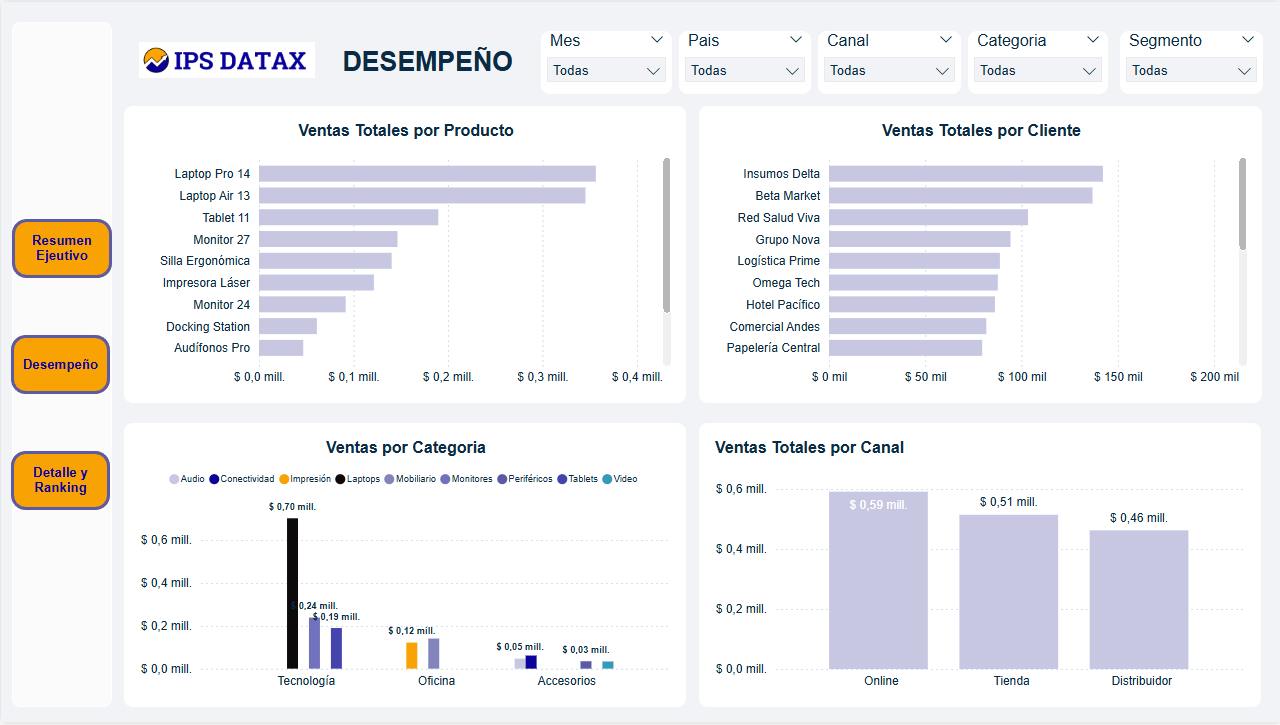

The page's visual inventory and layout, read from the dashboard file:
{"tool":"powerbi","page":{"name":"Desempeño","canvas":[1280,720],"ordinal":1},"visuals":[{"type":"shape","box":[11.1,19.9,99.5,685.3],"z":0},{"type":"image","box":[122.6,24.3,206.2,68.1],"z":1000},{"type":"slicer","fields":{"Values":["Calendario.Jerarquía de fechas.Mes"]},"box":[539.8,29.2,131.3,63.2],"z":2000},{"type":"slicer","fields":{"Values":["TblDimClienteDirty.Pais"]},"box":[677.9,29.2,132.3,63.2],"z":3000},{"type":"slicer","fields":{"Values":["TblDimCanalDirty.Canal"]},"box":[817,29.2,143,63.2],"z":4000},{"type":"slicer","fields":{"Values":["TblDimProductoDirty.Categoria"]},"box":[966.8,29.2,140.1,63.2],"z":5000},{"type":"slicer","fields":{"Values":["TblDimClienteDirty.Segmento"]},"box":[1118.5,29.2,143,63.2],"z":6000},{"type":"textbox","box":[328.8,44.7,195.5,33.1],"z":8000},{"type":"actionButton","box":[11.4,216.6,99.2,59.3],"z":9000},{"type":"actionButton","box":[10.3,332.8,99.2,59.3],"z":10000},{"type":"actionButton","box":[10.3,449.1,99.2,59.3],"z":11000},{"type":"clusteredColumnChart","title":"Ventas por Categoria","fields":{"Category":["TblDimProductoDirty.Categoria"],"Y":["TblFactVentasDirty.Ventas Totales Netas"],"Series":["TblDimProductoDirty.Subcategoria"]},"box":[122.8,420.7,562.4,284.3],"z":13000},{"type":"barChart","fields":{"Category":["Cliente.Cliente"],"Y":["Medidas.Ventas Totales"]},"box":[698.3,103.6,562.3,297.9],"z":14001},{"type":"barChart","fields":{"Category":["Producto.Producto"],"Y":["Medidas.Ventas Totales"]},"box":[123,103.6,562.3,297.9],"z":14002},{"type":"columnChart","fields":{"Y":["Medidas.Ventas Totales"],"Category":["Canal.Canal"]},"box":[698,421,562,284],"z":14003}]}

Visuals, with their boxes in screenshot pixels (x1, y1, x2, y2), scaled from the page's 1280x720 canvas onto the 1280x725 screenshot:
shape: (x1=11, y1=20, x2=111, y2=710)
image: (x1=123, y1=24, x2=329, y2=93)
slicer - Calendario.Jerarquía de fechas.Mes: (x1=540, y1=29, x2=671, y2=93)
slicer - TblDimClienteDirty.Pais: (x1=678, y1=29, x2=810, y2=93)
slicer - TblDimCanalDirty.Canal: (x1=817, y1=29, x2=960, y2=93)
slicer - TblDimProductoDirty.Categoria: (x1=967, y1=29, x2=1107, y2=93)
slicer - TblDimClienteDirty.Segmento: (x1=1118, y1=29, x2=1262, y2=93)
textbox: (x1=329, y1=45, x2=524, y2=78)
actionButton: (x1=11, y1=218, x2=111, y2=278)
actionButton: (x1=10, y1=335, x2=110, y2=395)
actionButton: (x1=10, y1=452, x2=110, y2=512)
"Ventas por Categoria" clusteredColumnChart: (x1=123, y1=424, x2=685, y2=710)
barChart - Cliente.Cliente x Medidas.Ventas Totales: (x1=698, y1=104, x2=1261, y2=404)
barChart - Producto.Producto x Medidas.Ventas Totales: (x1=123, y1=104, x2=685, y2=404)
columnChart - Medidas.Ventas Totales x Canal.Canal: (x1=698, y1=424, x2=1260, y2=710)
